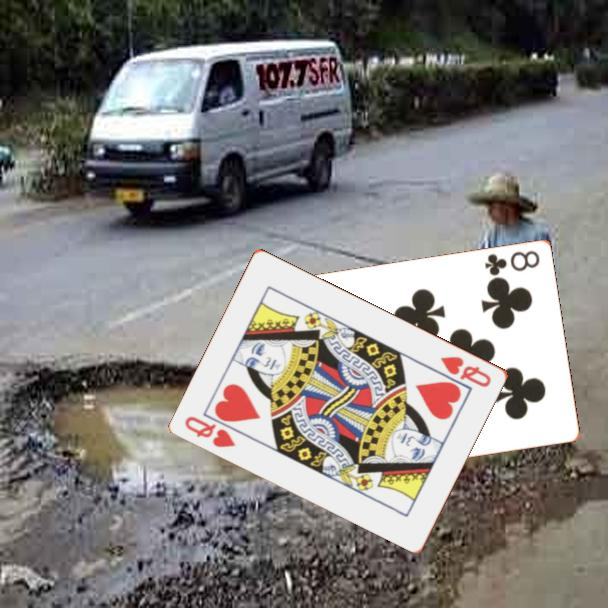c08: (481, 247, 542, 279)
h12: (182, 412, 239, 450), (437, 353, 494, 390)
